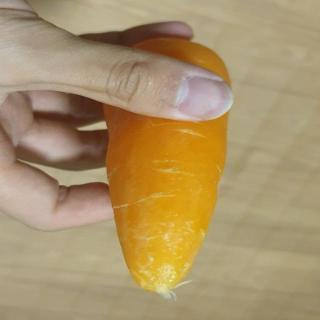carrot: (95, 33, 241, 300)
